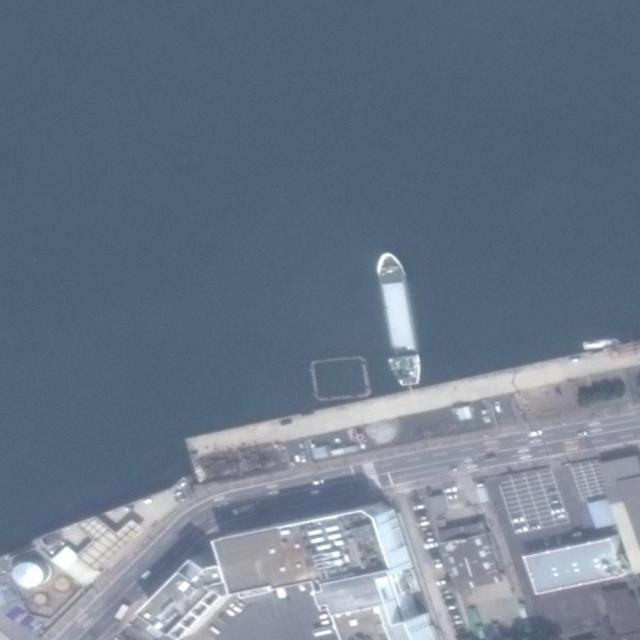Cargo: (370, 248, 427, 391)
